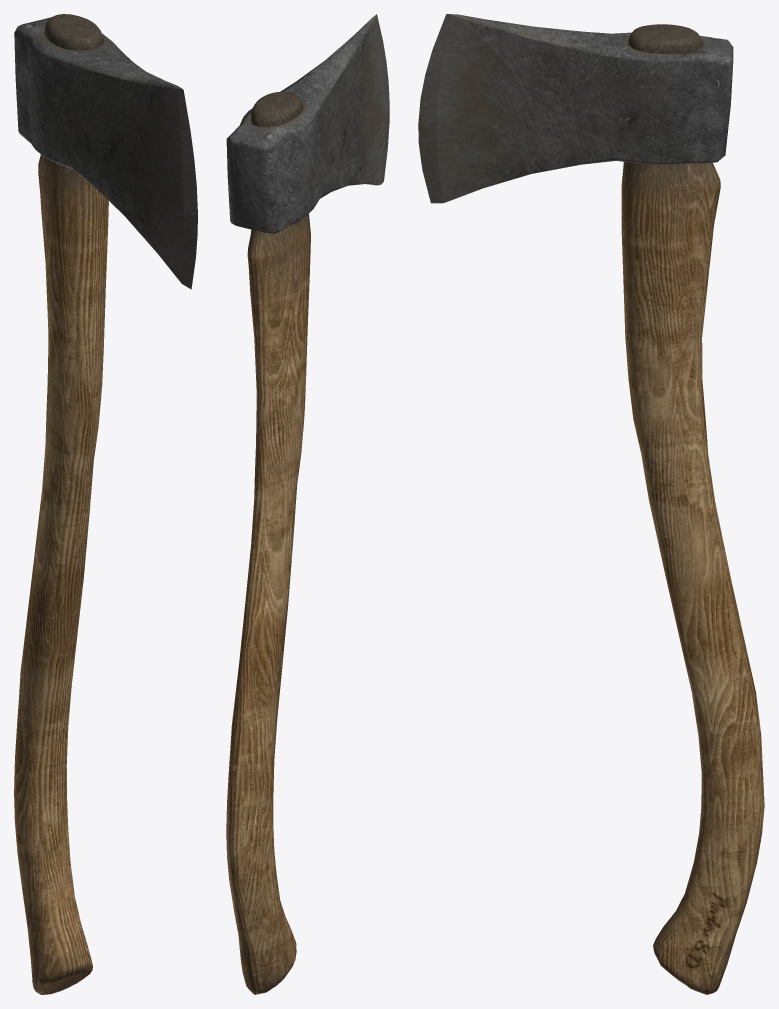
Rendered from wooden_axe_02.glb.
3 renders of one model, left to right at view 1: azimuth 30°, elevation 25°; view 2: azimuth 150°, elevation 25°; view 3: azimuth 270°, elevation 25°, orthographic. The views are drawn at different scales.
Visible parts, largest first — view 1: wooden_axe_02; view 2: wooden_axe_02; view 3: wooden_axe_02.
Part boxes in pixels (box(x1,y1,x2,y2)): wooden_axe_02: box(14, 14, 197, 994); wooden_axe_02: box(226, 14, 389, 994); wooden_axe_02: box(418, 14, 764, 994).
Size of the model in its own units: 0.0509 by 0.7042 by 0.2258.
1 material, 1 textured.
